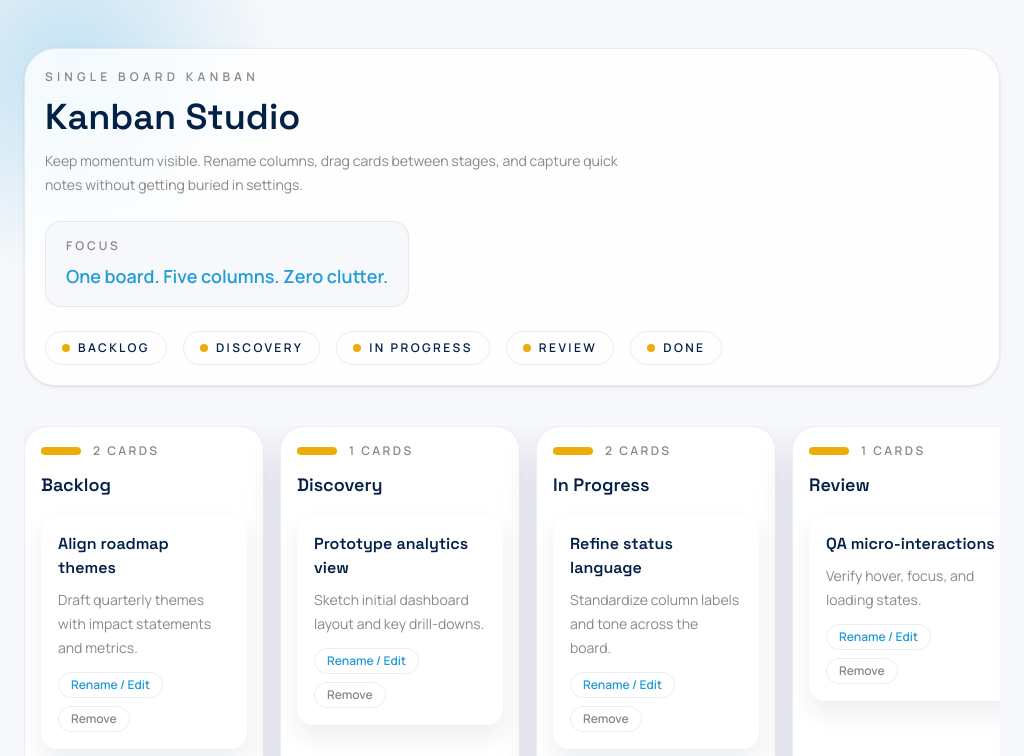
Test case: KanbanBoard › edits a card title and details
Click the button with aria-label "Edit Align roadmap themes" at (110, 685), box [58,672,163,698]
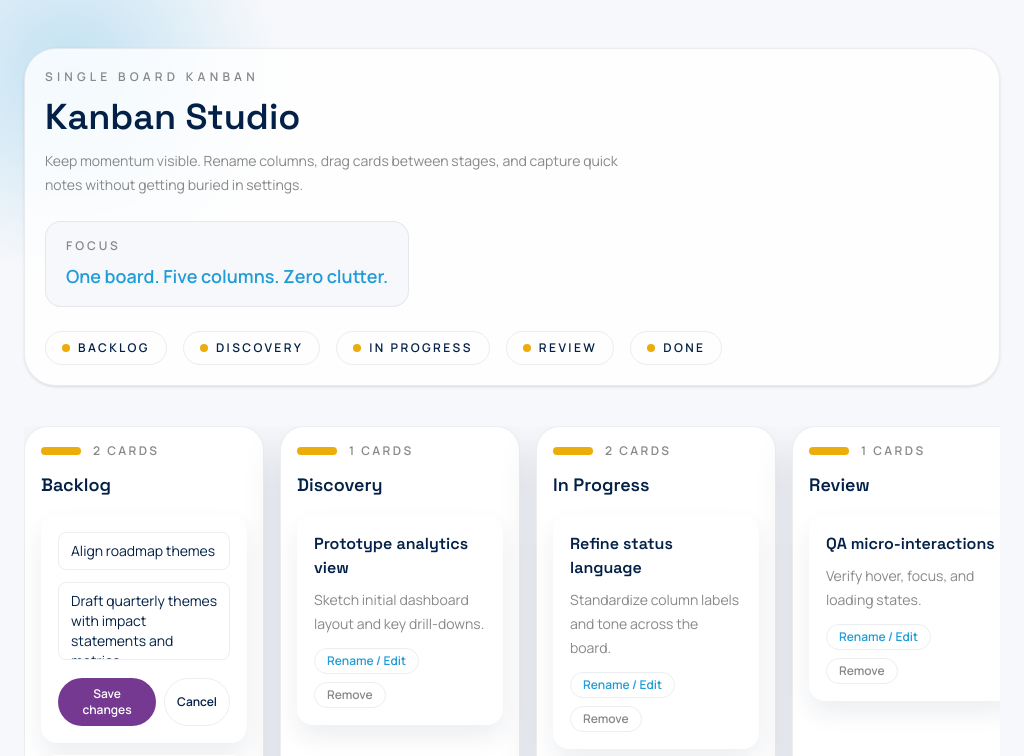
Replace the text in the field named "Title for Align roadmap themes" with "Updated roadmap" at (144, 551), box [58,532,230,570]
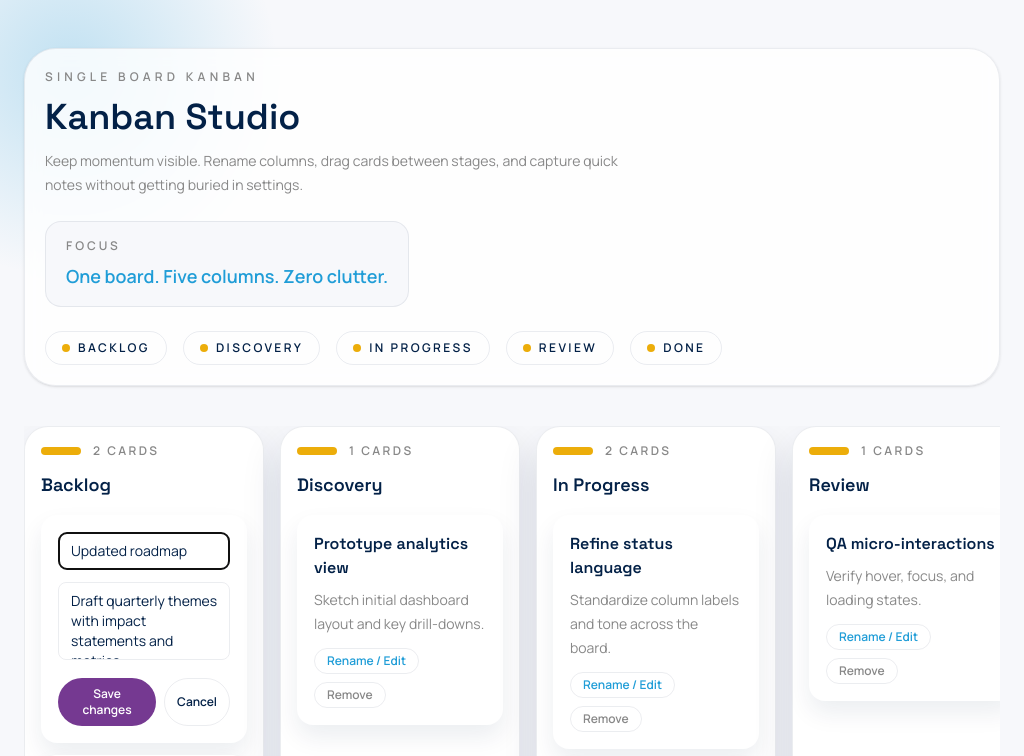
Click the button "Save changes" at (107, 702), box [58,678,156,726]
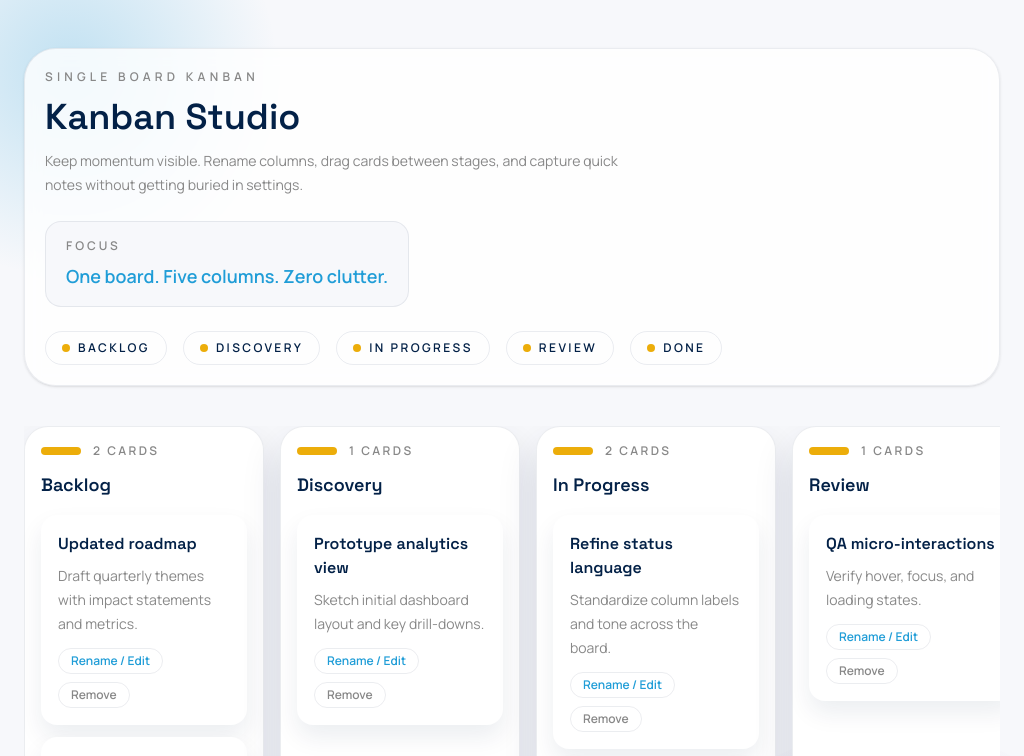
Check: the heading "Updated roadmap" is shown, box [58,533,197,554]
